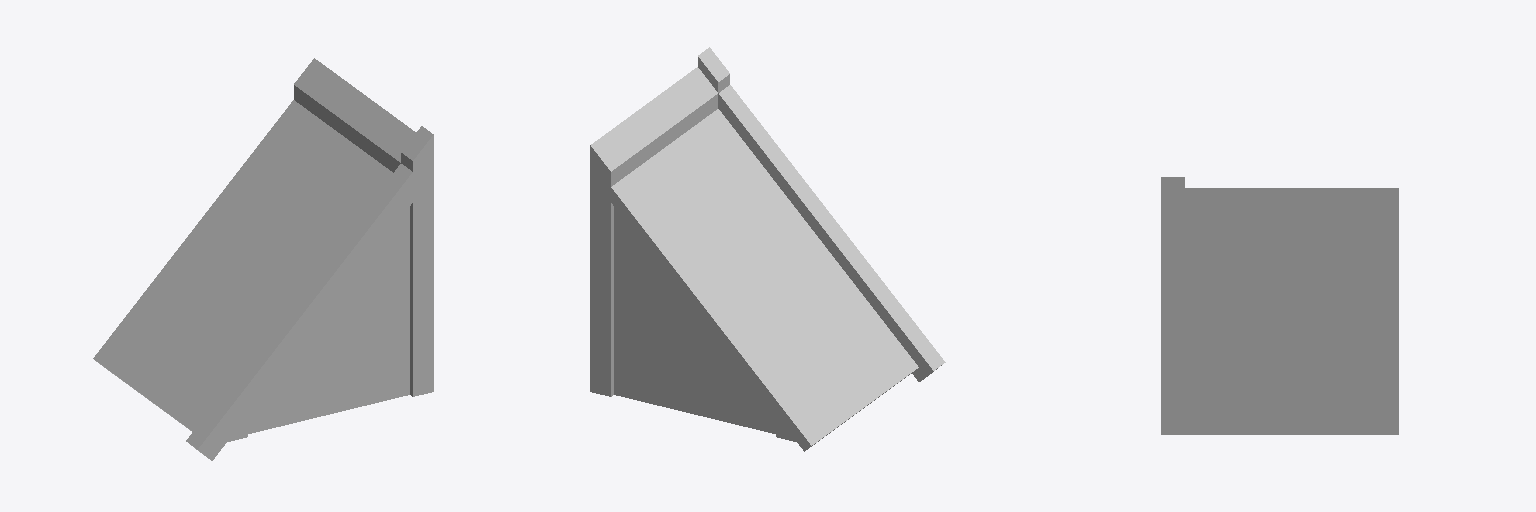
The model's file is roofHighRight.obj.
The picture shows the model from 3 angles: view 1: azimuth 30°, elevation 25°; view 2: azimuth 150°, elevation 25°; view 3: azimuth 270°, elevation 25°; orthographic projection.
Parts seen in each view (by area): view 1: roofHighRight; view 2: roofHighRight; view 3: roofHighRight.
Boxes of the visible parts, box(x1,y1,x2,y2) form: roofHighRight: box(93, 58, 433, 460); roofHighRight: box(590, 47, 945, 451); roofHighRight: box(1161, 177, 1398, 434).
Size of the model in its own units: 1.14 by 1.26 by 1.